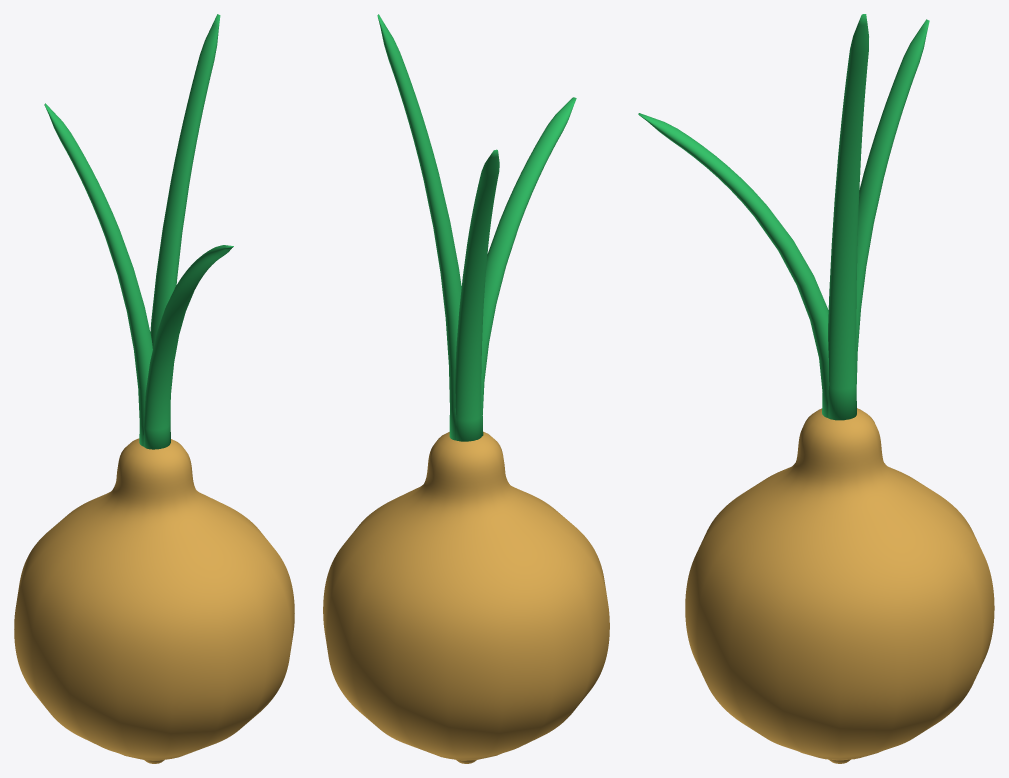
The model's file is onion 1.fbx.
The picture shows the model from 3 angles, left to right: view 1: azimuth 30°, elevation 25°; view 2: azimuth 150°, elevation 25°; view 3: azimuth 270°, elevation 25°; orthographic projection. The views are drawn at different scales.
Parts seen in each view (by area): view 1: Onion; view 2: Onion; view 3: Onion.
Part boxes in pixels (x1,y1,x2,y2): Onion: (14,14,294,763); Onion: (323,14,609,763); Onion: (638,14,994,763).
Size of the model in its own units: 1488 by 4183 by 1713.
